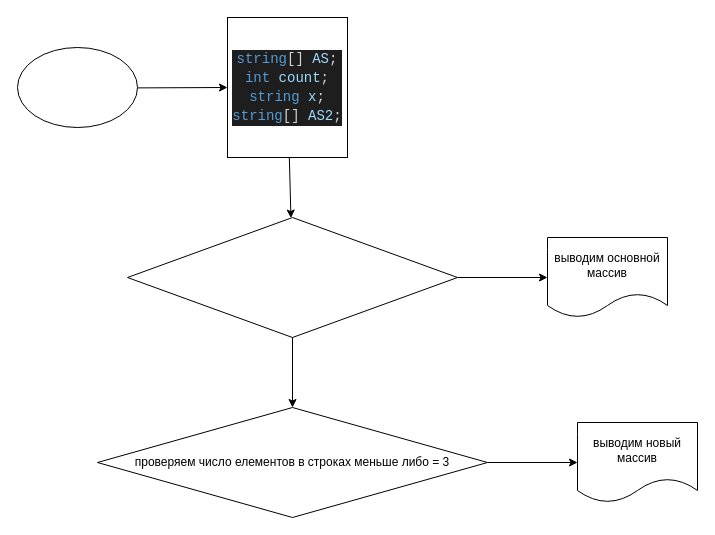
This 715x535 diagram has some shape labels left out. Here are the shapes that lost their labels. From the top down, the box of each, then its label:
(16, 46, 138, 128): начало
(126, 216, 458, 338): заполняем массив через чикл
